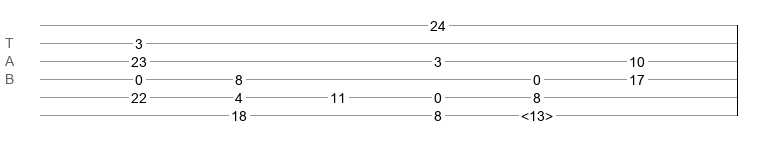0: (135, 72, 143, 82), (434, 90, 442, 100), (533, 72, 541, 82)
10: (629, 54, 645, 64)
11: (330, 90, 346, 100)
17: (629, 72, 645, 82)
18: (231, 108, 247, 118)
22: (131, 90, 147, 100)
23: (131, 54, 147, 64)
24: (430, 18, 446, 28)
3: (135, 36, 143, 46), (434, 54, 442, 64)
4: (235, 90, 243, 100)
8: (235, 72, 243, 82), (434, 108, 442, 118), (533, 90, 541, 100)
harmonic: (521, 108, 553, 118)
